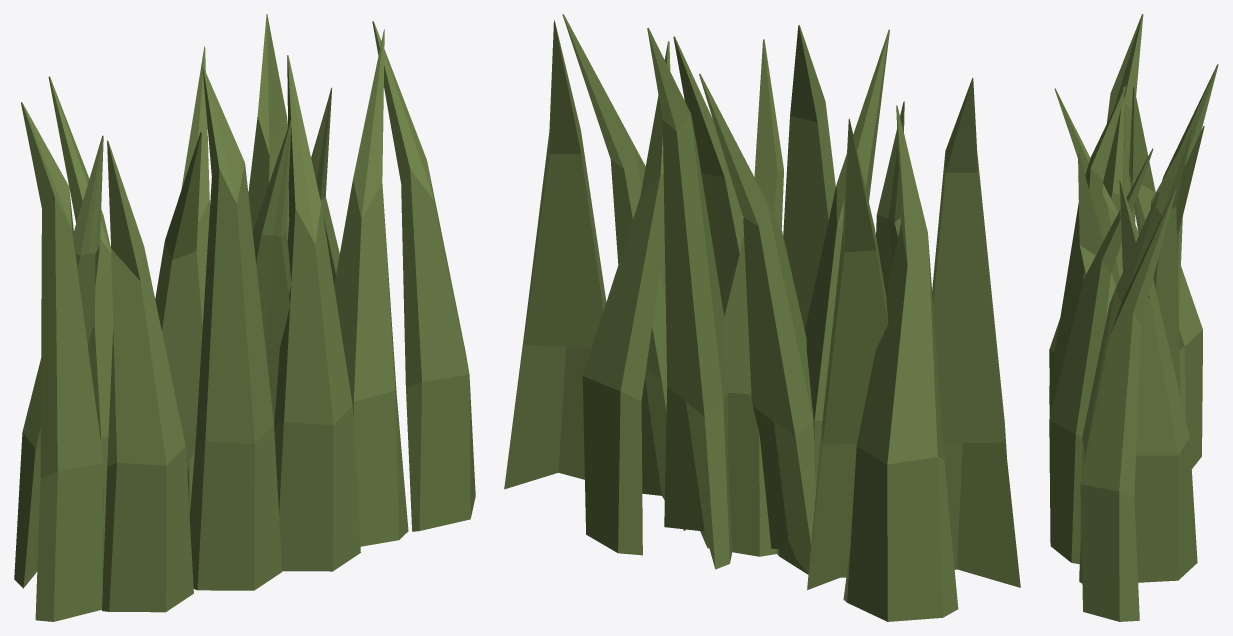
The model's file is grass2.fbx.
3 views of the same model, side by side, from view 1: azimuth 30°, elevation 25°; view 2: azimuth 150°, elevation 25°; view 3: azimuth 270°, elevation 25° (orthographic). The views are drawn at different scales.
Visible parts, largest first — view 1: Cube, Cube.002, Cube.001, Cube.007, Cube.009, Cube.011, Cube.003, Cube.005, Cube.004, Cube.006, Cube.012, Cube.008 (+1 smaller); view 2: Cube.005, Cube.007, Cube.012, Cube.009, Cube.010, Cube.008, Cube.006, Cube.004, Cube, Cube.011, Cube.003, Cube.001 (+1 smaller); view 3: Cube.009, Cube.010, Cube.001, Cube.005, Cube.012, Cube, Cube.011, Cube.007, Cube.004, Cube.002, Cube.003, Cube.006 (+1 smaller).
Boxes of the visible parts, bbox=[...] form: Cube: bbox=[189, 67, 282, 590]; Cube.002: bbox=[102, 140, 193, 612]; Cube.001: bbox=[274, 55, 360, 571]; Cube.007: bbox=[21, 102, 103, 621]; Cube.009: bbox=[372, 21, 475, 531]; Cube.011: bbox=[334, 29, 408, 546]; Cube.003: bbox=[155, 132, 202, 476]; Cube.005: bbox=[14, 135, 103, 588]; Cube.004: bbox=[253, 120, 291, 425]; Cube.006: bbox=[48, 76, 113, 568]; Cube.012: bbox=[248, 14, 289, 239]; Cube.008: bbox=[181, 46, 210, 514]; Cube.005: bbox=[843, 105, 958, 621]; Cube.007: bbox=[932, 77, 1020, 587]; Cube.012: bbox=[647, 27, 732, 569]; Cube.009: bbox=[504, 20, 606, 489]; Cube.010: bbox=[582, 41, 670, 555]; Cube.008: bbox=[699, 73, 815, 574]; Cube.006: bbox=[807, 118, 888, 589]; Cube.004: bbox=[700, 39, 783, 556]; Cube: bbox=[783, 25, 835, 330]; Cube.011: bbox=[562, 14, 685, 530]; Cube.003: bbox=[777, 29, 889, 577]; Cube.001: bbox=[673, 36, 743, 304]; Cube.009: bbox=[1080, 189, 1176, 621]; Cube.010: bbox=[1119, 180, 1197, 582]; Cube.001: bbox=[1049, 148, 1153, 563]; Cube.005: bbox=[1129, 87, 1202, 468]; Cube.012: bbox=[1148, 128, 1192, 396]; Cube: bbox=[1049, 86, 1126, 417]; Cube.011: bbox=[1079, 191, 1159, 583]; Cube.007: bbox=[1107, 14, 1143, 222]; Cube.004: bbox=[1078, 152, 1116, 321]; Cube.002: bbox=[1049, 87, 1124, 383]; Cube.003: bbox=[1054, 88, 1122, 286]; Cube.006: bbox=[1162, 64, 1218, 317].
Size of the model in its own units: 30.66 by 31.78 by 11.46.
